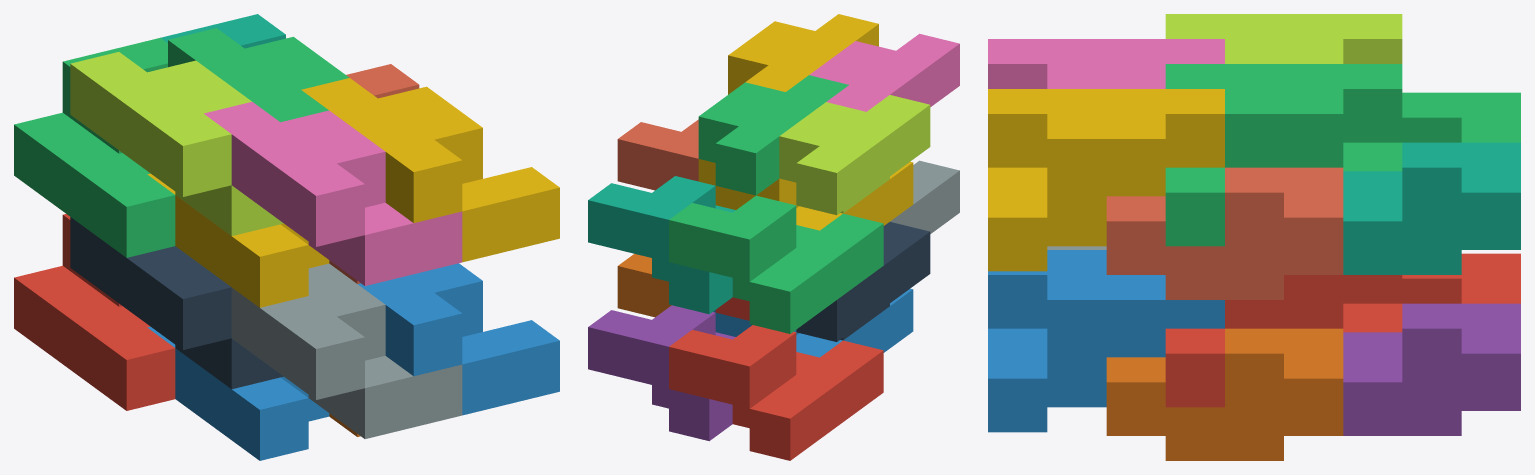
Rendered from tiling.obj.
3 views of the same model, side by side, from view 1: azimuth 30°, elevation 25°; view 2: azimuth 150°, elevation 25°; view 3: azimuth 270°, elevation 25° (orthographic). The views are drawn at different scales.
Parts seen in each view (by area): view 1: copy_2_domain_4, copy_2_domain_8, copy_2_domain_2, copy_2_domain_3, copy_2_domain_6, copy_1_domain_3, copy_1_domain_1, copy_2_domain_1, copy_1_domain_2, copy_1_domain_4, copy_2_domain_7, copy_1_domain_7 (+1 smaller); view 2: copy_1_domain_3, copy_1_domain_1, copy_2_domain_3, copy_1_domain_7, copy_2_domain_7, copy_1_domain_5, copy_2_domain_4, copy_2_domain_8, copy_2_domain_1, copy_1_domain_4, copy_1_domain_8, copy_1_domain_2 (+3 smaller); view 3: copy_2_domain_8, copy_2_domain_6, copy_2_domain_7, copy_1_domain_6, copy_1_domain_8, copy_1_domain_5, copy_1_domain_7, copy_2_domain_5, copy_2_domain_3, copy_2_domain_4, copy_1_domain_3, copy_1_domain_1.
Boxes of the visible parts, <box> form: copy_2_domain_4: <box>204,102,462,285</box>; copy_2_domain_8: <box>301,78,559,262</box>; copy_2_domain_2: <box>231,263,462,438</box>; copy_2_domain_3: <box>70,52,283,235</box>; copy_2_domain_6: <box>357,263,559,415</box>; copy_1_domain_3: <box>14,38,175,257</box>; copy_1_domain_1: <box>14,214,175,410</box>; copy_2_domain_1: <box>70,217,283,389</box>; copy_1_domain_2: <box>147,326,329,460</box>; copy_1_domain_4: <box>147,173,329,307</box>; copy_2_domain_7: <box>168,28,349,122</box>; copy_1_domain_7: <box>160,14,285,48</box>; copy_1_domain_3: <box>669,195,883,333</box>; copy_1_domain_1: <box>669,325,883,460</box>; copy_2_domain_3: <box>779,95,930,215</box>; copy_1_domain_7: <box>588,176,735,314</box>; copy_2_domain_7: <box>698,75,848,195</box>; copy_1_domain_5: <box>588,305,735,441</box>; copy_2_domain_4: <box>809,33,959,111</box>; copy_2_domain_8: <box>728,14,878,94</box>; copy_2_domain_1: <box>796,222,930,341</box>; copy_1_domain_4: <box>698,159,913,230</box>; copy_1_domain_8: <box>617,119,698,190</box>; copy_1_domain_2: <box>713,288,913,357</box>; copy_2_domain_8: <box>988,89,1224,271</box>; copy_2_domain_6: <box>988,250,1224,432</box>; copy_2_domain_7: <box>1165,64,1402,246</box>; copy_1_domain_6: <box>1106,328,1343,460</box>; copy_1_domain_8: <box>1106,167,1343,299</box>; copy_1_domain_5: <box>1343,303,1520,435</box>; copy_1_domain_7: <box>1343,142,1520,274</box>; copy_2_domain_5: <box>1165,275,1402,407</box>; copy_2_domain_3: <box>1165,14,1402,63</box>; copy_2_domain_4: <box>988,39,1224,88</box>; copy_1_domain_3: <box>1343,92,1520,171</box>; copy_1_domain_1: <box>1343,253,1520,332</box>.
Size of the model in its own units: 6 by 6 by 9.
